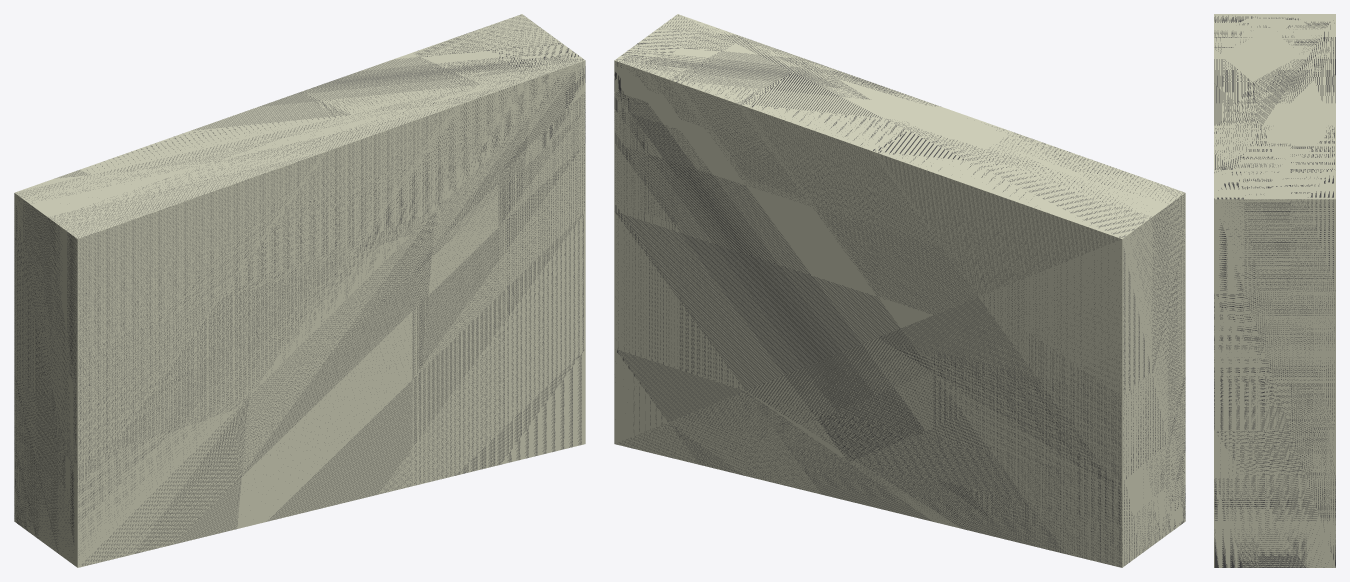
File: original-64.obj
The picture shows the model from 3 angles, left to right: view 1: azimuth 30°, elevation 25°; view 2: azimuth 150°, elevation 25°; view 3: azimuth 270°, elevation 25°; orthographic projection. The views are drawn at different scales.
Parts seen in each view (by area): view 1: mesh52/mesh52-geometry/material_4/component_1#mesh52-geometry; view 2: mesh52/mesh52-geometry/material_4/component_1#mesh52-geometry; view 3: mesh52/mesh52-geometry/material_4/component_1#mesh52-geometry.
Part boxes in pixels (left/top/right/bottom): mesh52/mesh52-geometry/material_4/component_1#mesh52-geometry: left=14, top=14, right=585, bottom=567; mesh52/mesh52-geometry/material_4/component_1#mesh52-geometry: left=614, top=14, right=1185, bottom=567; mesh52/mesh52-geometry/material_4/component_1#mesh52-geometry: left=1214, top=14, right=1335, bottom=567.
Size of the model in its own units: 0.1834 by 0.1323 by 0.0397.
